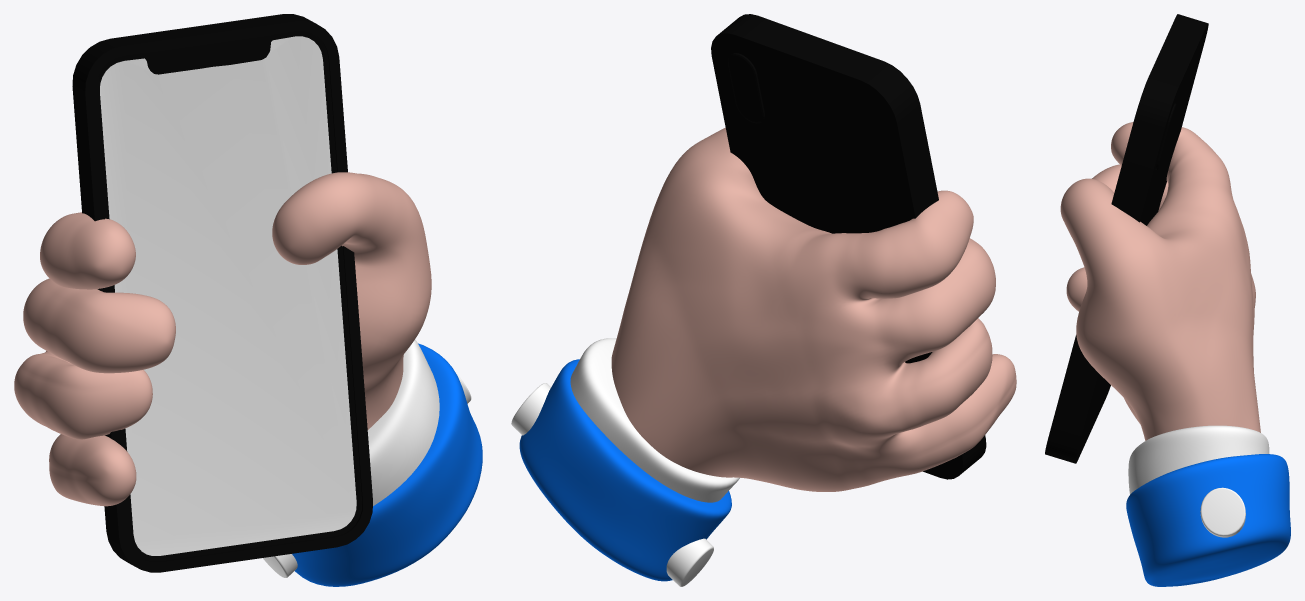
The model's file is phonehand.glb.
The picture shows the model from 3 angles, left to right: view 1: azimuth 30°, elevation 25°; view 2: azimuth 150°, elevation 25°; view 3: azimuth 270°, elevation 25°; orthographic projection. The views are drawn at different scales.
Parts seen in each view (by area): view 1: HP_primitive1, hand.016, HP_primitive0, SubTool-2-14940015.016, kemeja.016, Cylinder.016; view 2: hand.016, HP_primitive0, SubTool-2-14940015.016, kemeja.016, Cylinder.016; view 3: hand.016, SubTool-2-14940015.016, HP_primitive0, kemeja.016, Cylinder.016.
Boxes of the visible parts, box(x1,y1,x2,y2) form: HP_primitive1: box(100, 36, 356, 555); hand.016: box(14, 172, 431, 506); HP_primitive0: box(72, 14, 372, 572); SubTool-2-14940015.016: box(292, 343, 482, 586); kemeja.016: box(367, 339, 439, 505); Cylinder.016: box(263, 372, 471, 577); hand.016: box(611, 127, 1016, 491); HP_primitive0: box(711, 14, 986, 479); SubTool-2-14940015.016: box(519, 359, 731, 581); kemeja.016: box(570, 338, 739, 502); Cylinder.016: box(511, 383, 713, 586); hand.016: box(1060, 122, 1260, 440); SubTool-2-14940015.016: box(1126, 454, 1290, 586); HP_primitive0: box(1045, 14, 1208, 463); kemeja.016: box(1128, 425, 1269, 494); Cylinder.016: box(1200, 487, 1245, 537).
Bounding box in the file's own units: 6.27 × 7.7 × 3.56.
